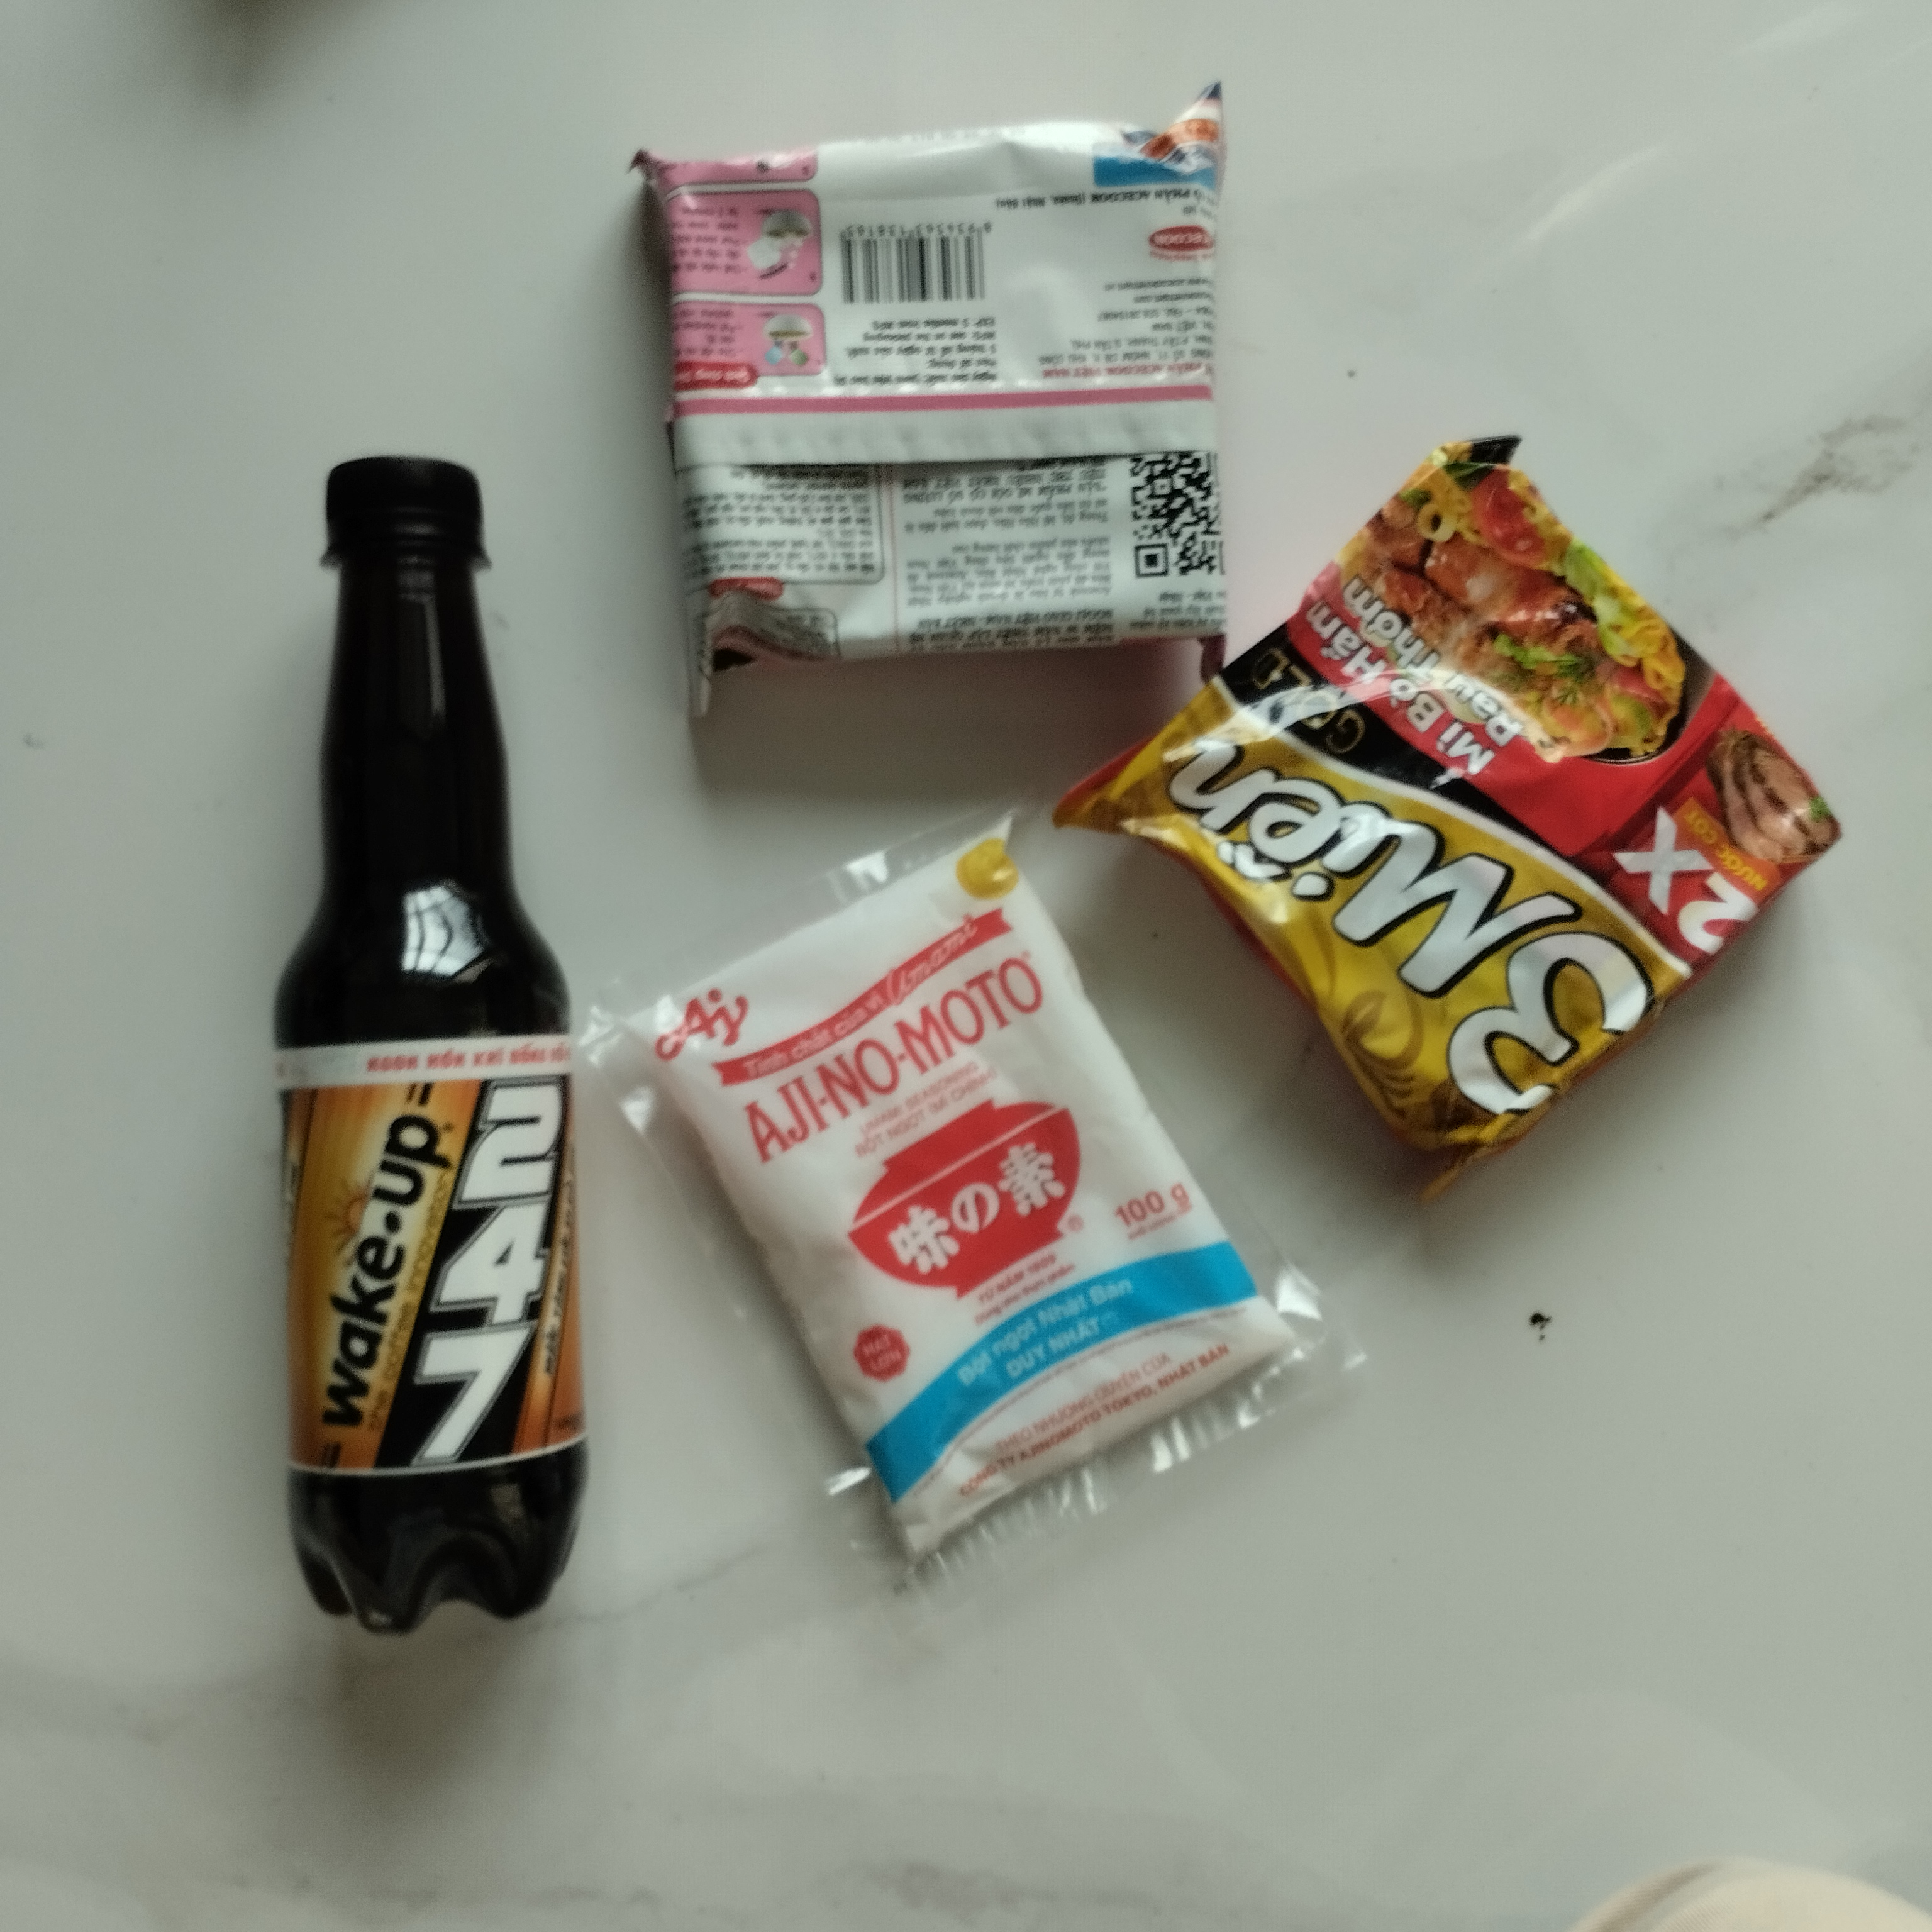247: (244, 448, 612, 1642)
3mien: (1035, 425, 1836, 1212)
Ajinomoto: (589, 794, 1322, 1603)
Haohao: (603, 83, 1251, 715)
